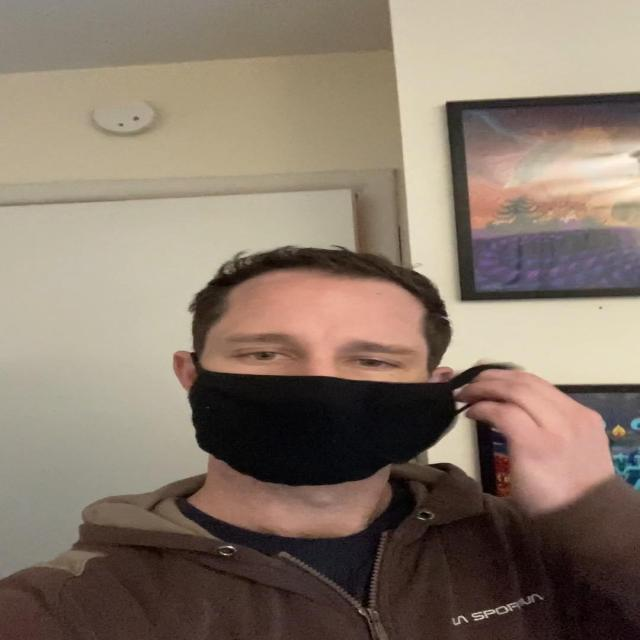no-helmet: (174, 257, 473, 511)
